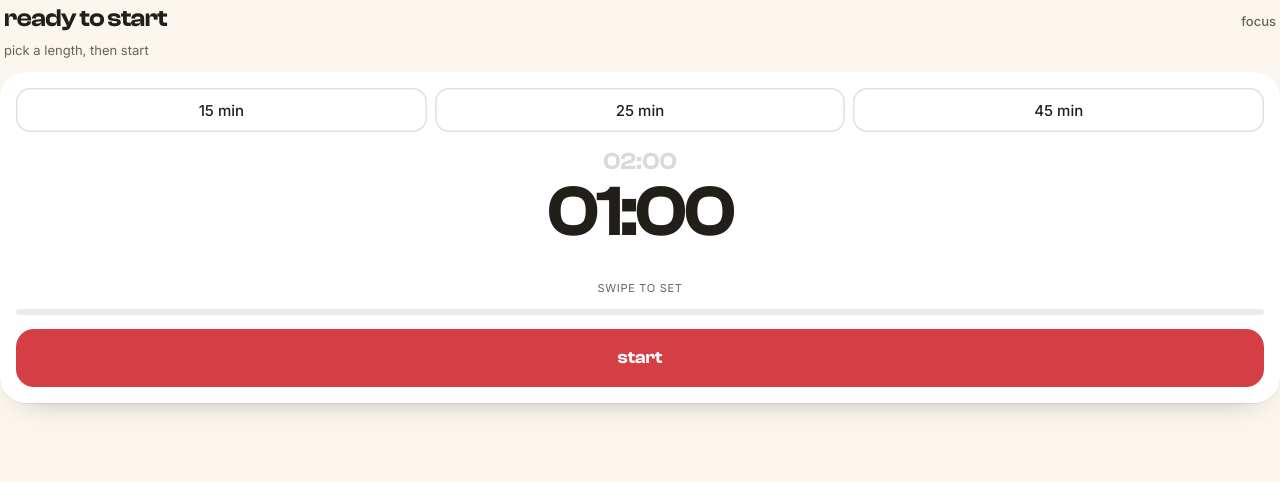
the primary action › offers the suggested break when a focus session finishes
The width and height of the screenshot is (1280, 482).
What coordinates should you click on to do the following:
click the button "start"
I would click on:
 (640, 358)
Its box is [16,329,1264,387].
Wait 60300 ms
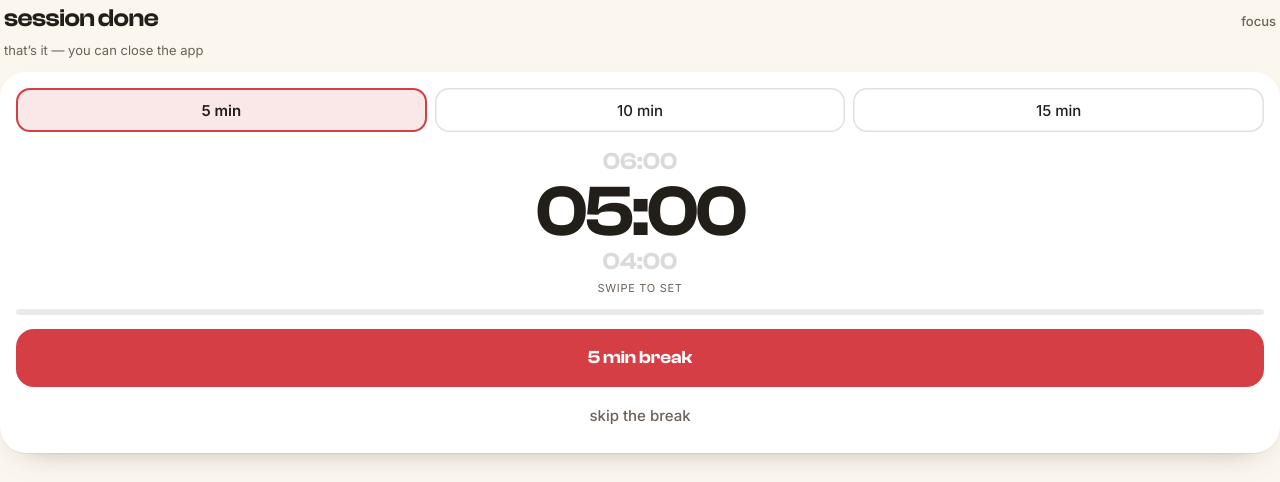
Result: the heading "session done" is shown at [4,4,158,32]
What coordinates should you click on to do the following:
click the button "5 min break"
I would click on:
 (640, 358)
Its box is [16,329,1264,387].
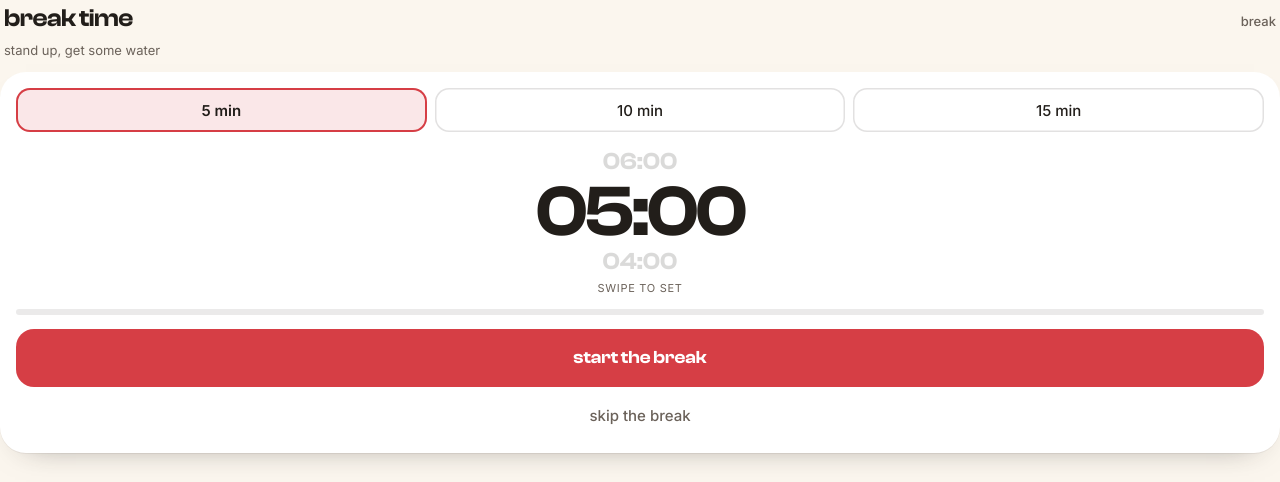
Result: the heading "break time" is shown at [4,4,133,32]
Result: the button "start the break" is shown at [16,329,1264,387]
